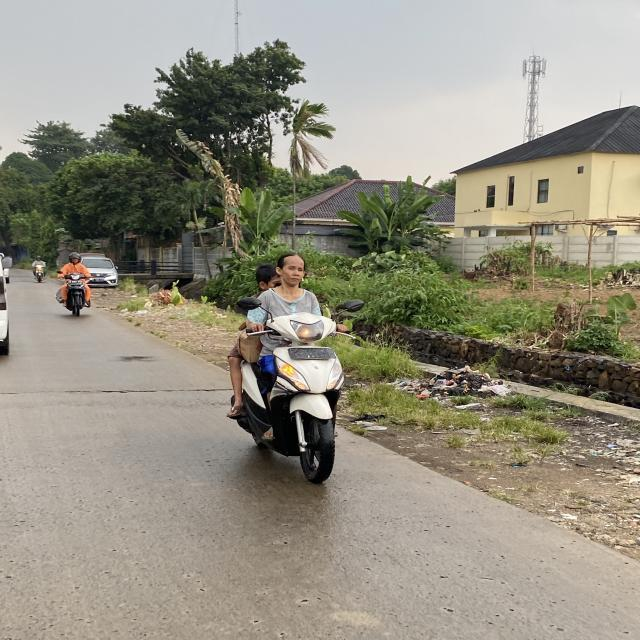Helmet: (69, 252, 80, 261), (36, 255, 40, 260)
Number Plate: (288, 347, 334, 359)
Rearview Mirror: (337, 299, 364, 312), (237, 297, 260, 311)
